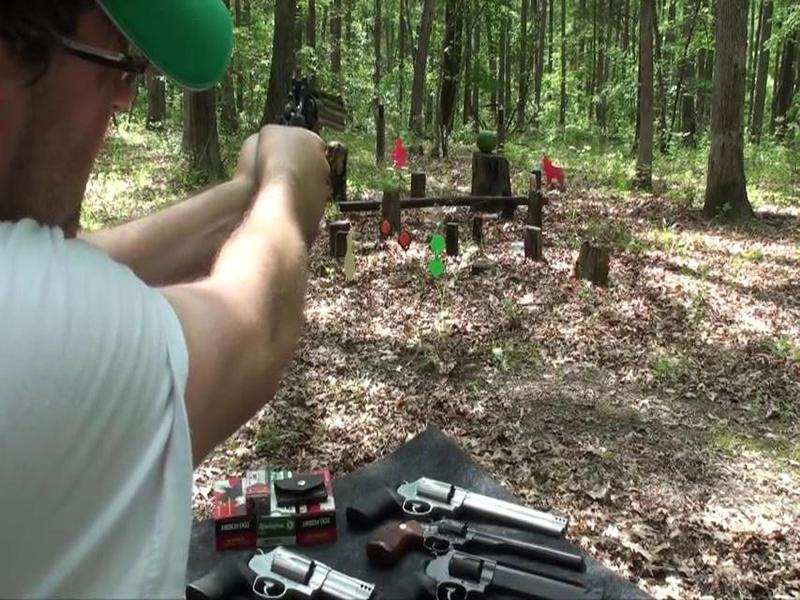Revolver: (271, 58, 352, 164)
